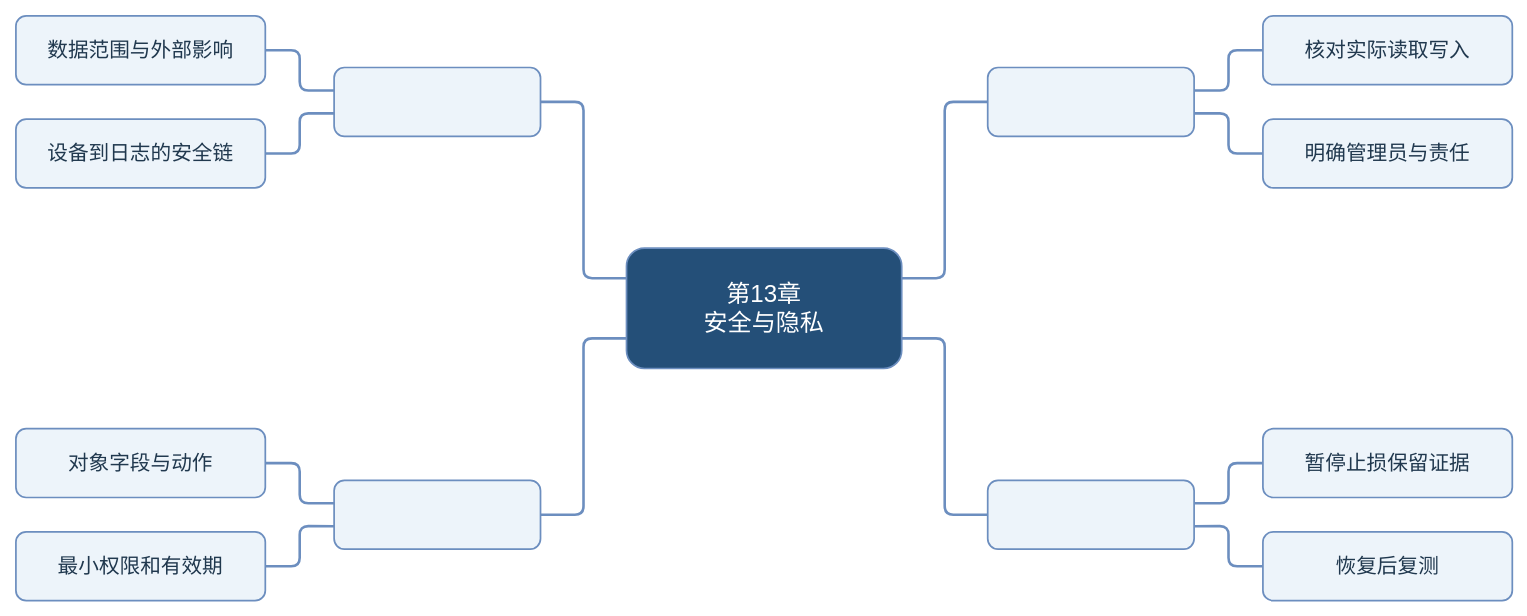
Image size: 1527x616. Some labels were removed from this diagram. Each missing label, with the box of its shape:
处置异常: (986, 479, 1195, 550)
检查授权: (333, 479, 541, 550)
留痕治理: (986, 66, 1195, 137)
识别风险: (333, 66, 541, 137)
